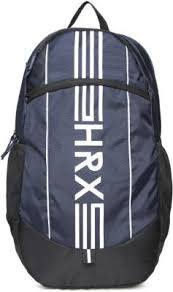backpack: (0, 0, 172, 288)
